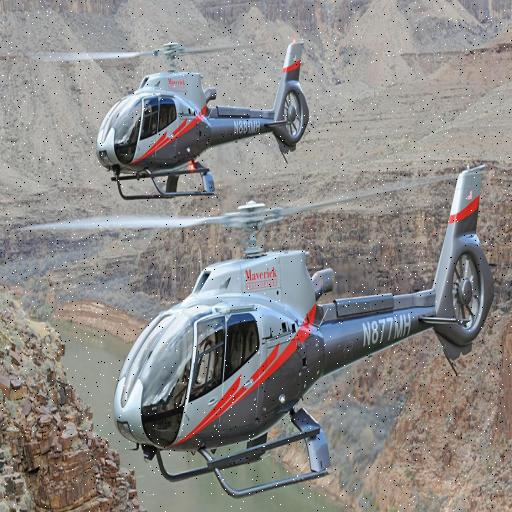helicopter: (104, 161, 512, 512), (93, 30, 318, 210)
